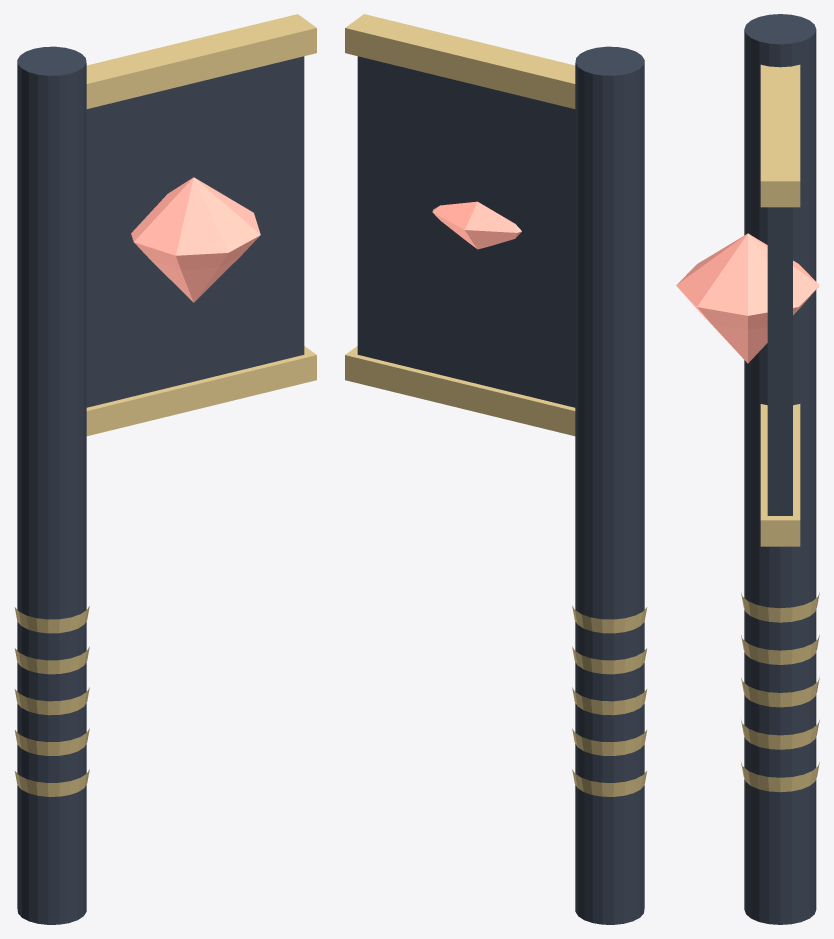
File: christian_relic.gltf
The picture shows the model from 3 angles, left to right: view 1: azimuth 30°, elevation 25°; view 2: azimuth 150°, elevation 25°; view 3: azimuth 270°, elevation 25°; orthographic projection. The views are drawn at different scales.
Parts seen in each view (by area): view 1: christian_banner_relic_review; view 2: christian_banner_relic_review; view 3: christian_banner_relic_review.
Boxes of the visible parts, x1,y1,x2,y2 form: christian_banner_relic_review: [14, 14, 316, 924]; christian_banner_relic_review: [345, 14, 647, 924]; christian_banner_relic_review: [676, 14, 819, 924].
Size of the model in its own units: 0.48 by 1.35 by 0.2.
